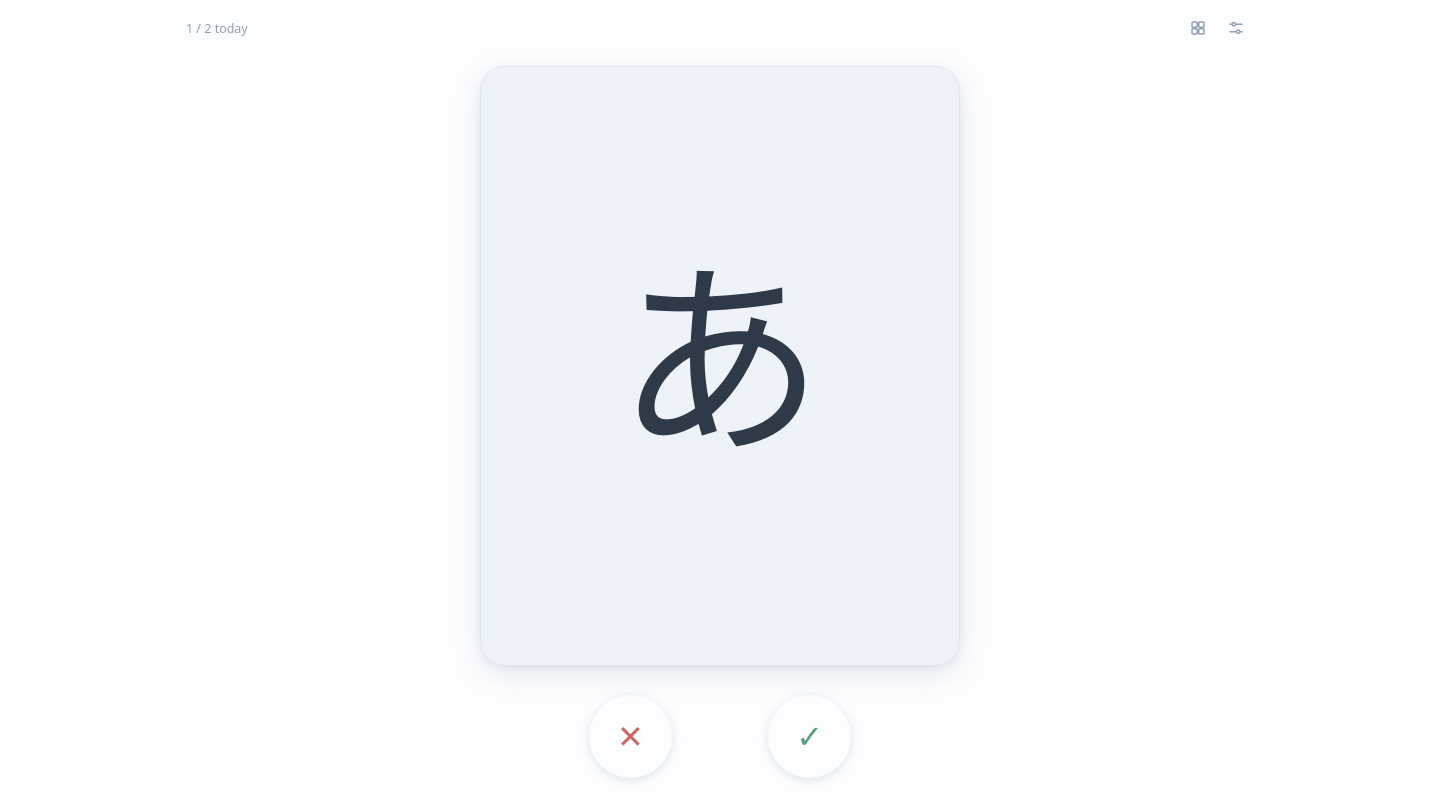
Test: typing test › does not prompt for typing when the setting is off
Click the button named "I know this".
click(810, 736)  # box [768,695,851,778]
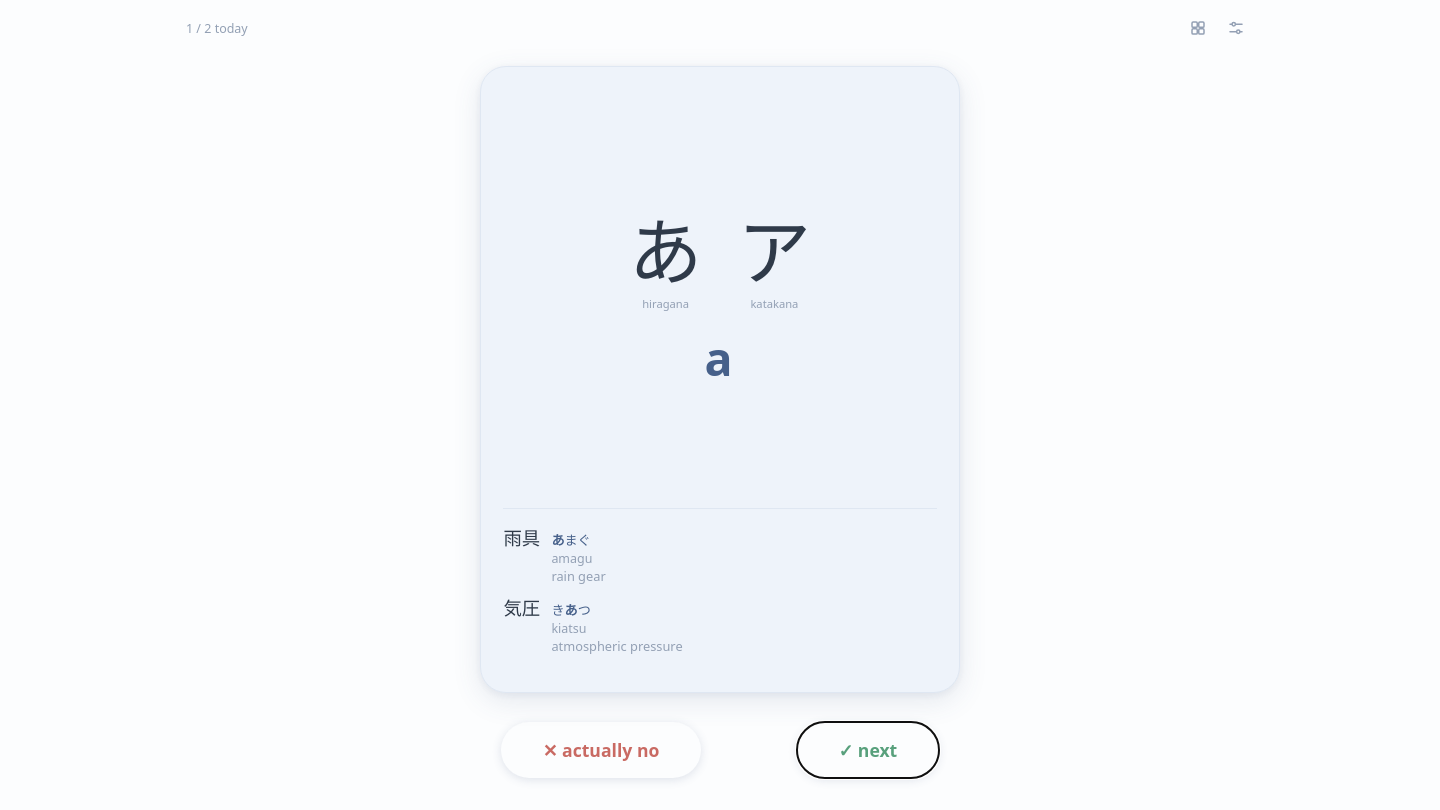
Now the button "✓ next" is shown, box [797,722,939,778]
